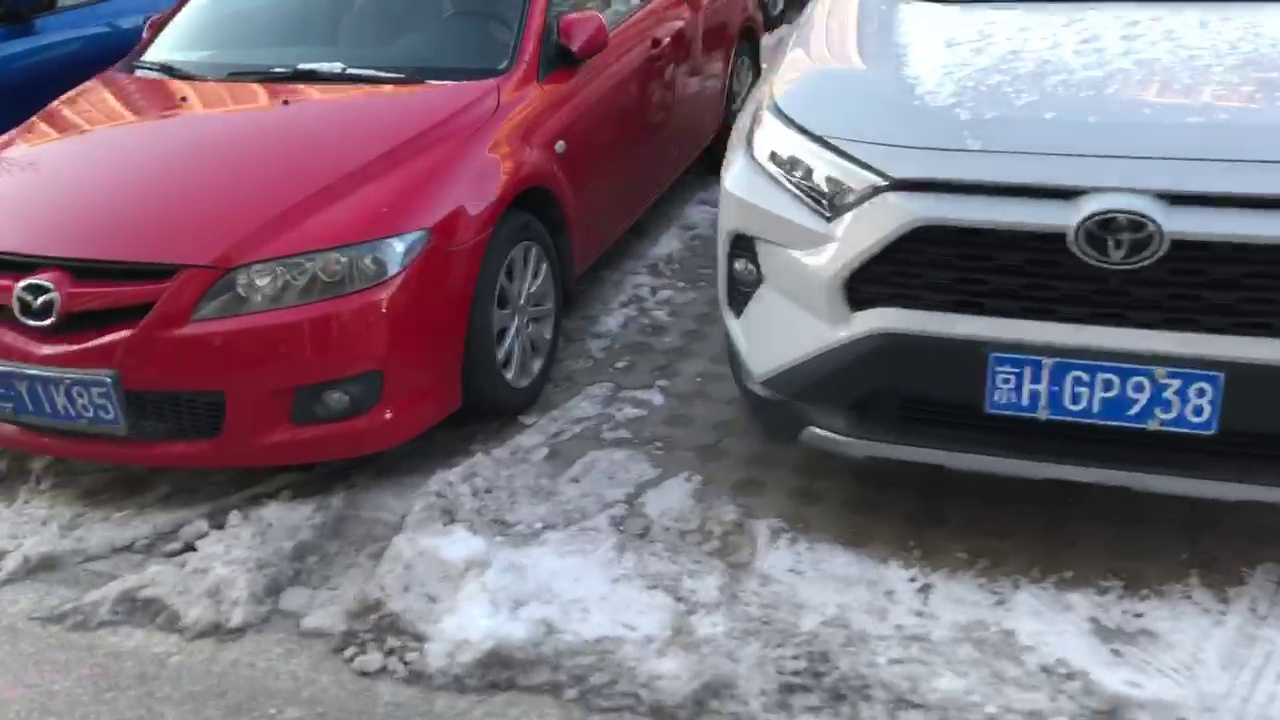plate: (986, 357, 1227, 438), (1, 373, 130, 432)
